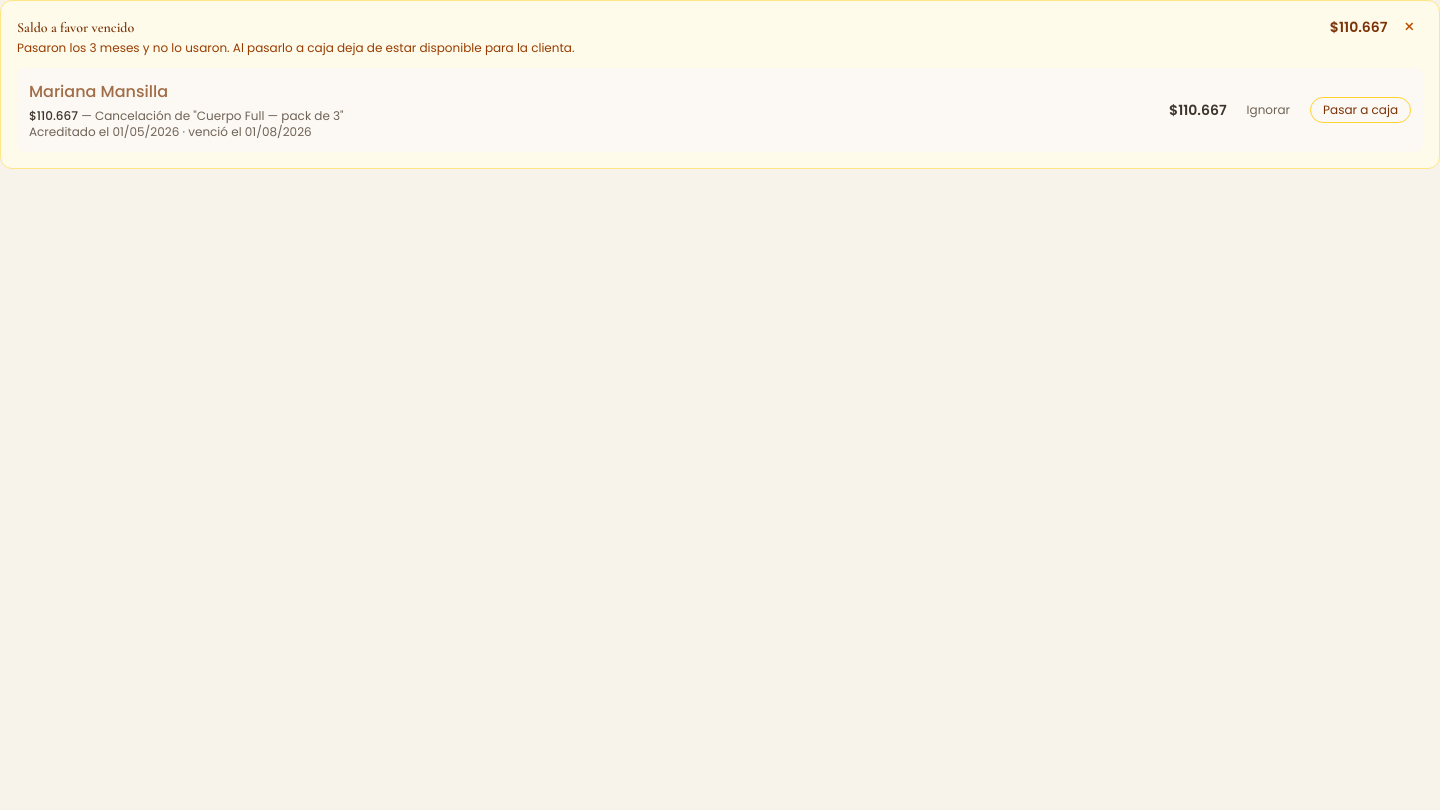
Test: SaldosVencidosAviso › pregunta antes de pasarlo a caja
What coordinates should you click on to do the following:
click the button "Pasar a caja"
I would click on:
 (1361, 110)
Its box is left=1310, top=97, right=1411, bottom=123.
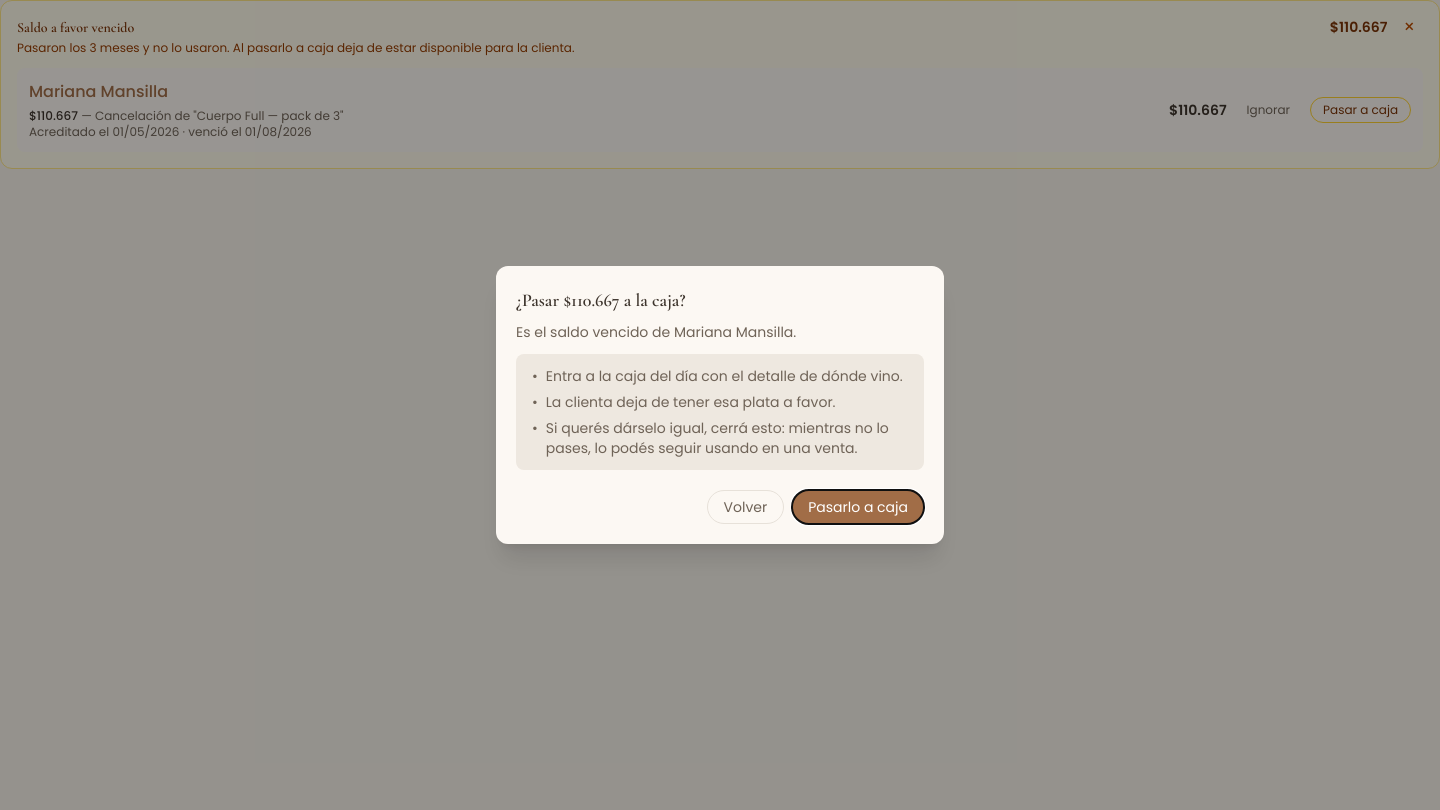
Check: the text "Entra a la caja del día con el detalle de dónde vino." is shown, box left=546, top=366, right=903, bottom=386
